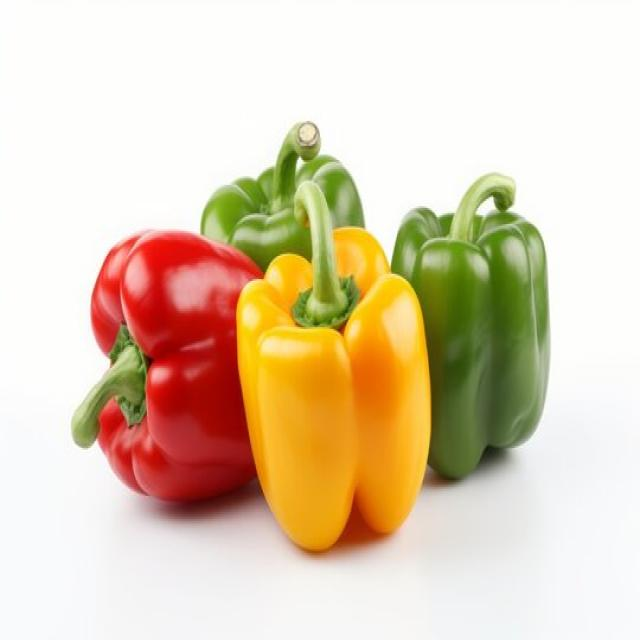Bell Pepper: (235, 178, 431, 551), (70, 226, 263, 503), (390, 171, 550, 480), (199, 117, 365, 272)
